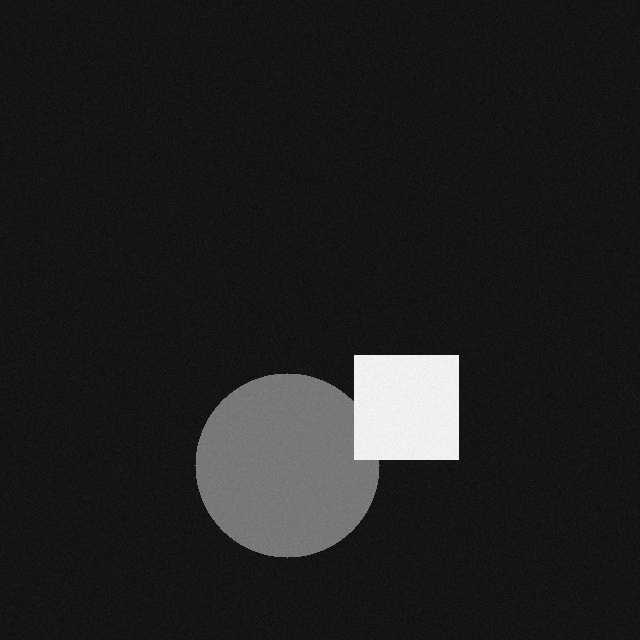circle: (201, 381, 385, 565)
square: (360, 363, 464, 467)
